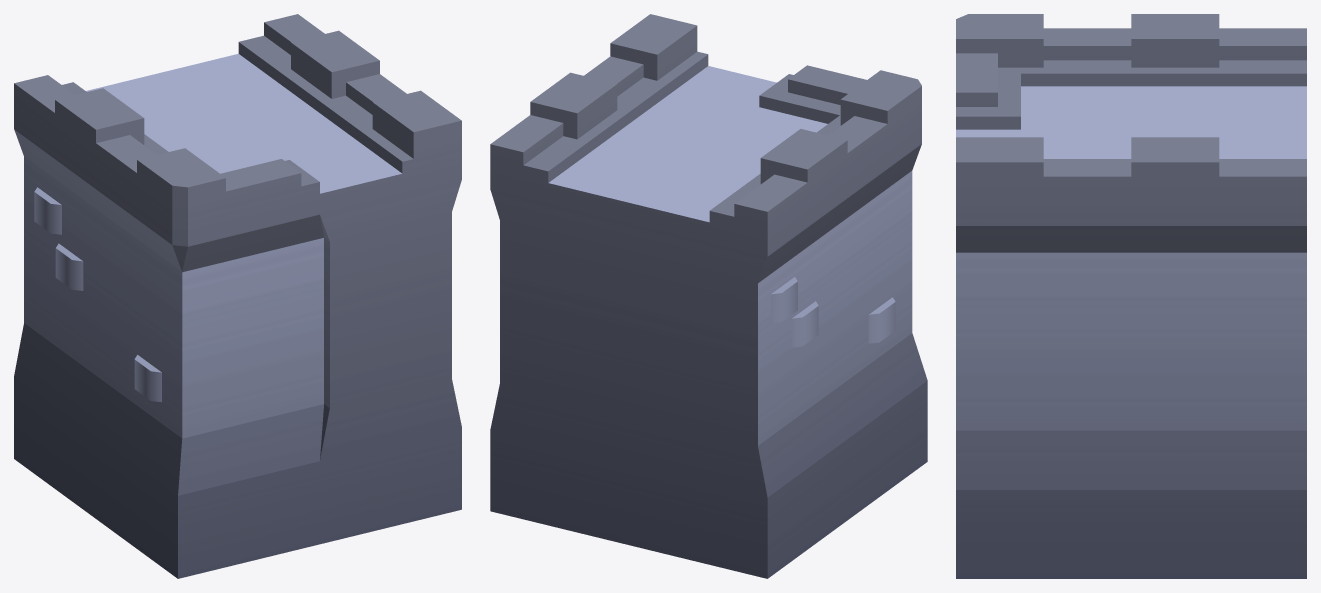
The model's file is wall-to-narrow.fbx.
3 views of the same model, side by side, from view 1: azimuth 30°, elevation 25°; view 2: azimuth 150°, elevation 25°; view 3: azimuth 270°, elevation 25° (orthographic). The views are drawn at different scales.
Parts seen in each view (by area): view 1: wall-to-narrow; view 2: wall-to-narrow; view 3: wall-to-narrow.
Part boxes in pixels (x1,y1,x2,y2): wall-to-narrow: (14,14,461,578); wall-to-narrow: (490,14,927,578); wall-to-narrow: (956,14,1306,578).
Bounding box in the file's own units: 1 × 1 × 1.31.
